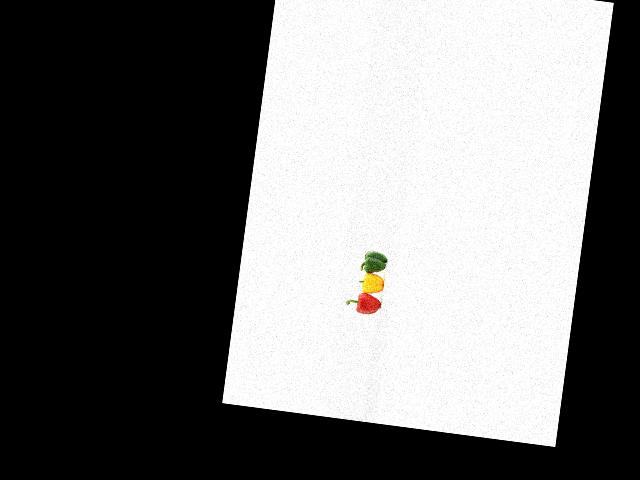bell_pepper: (341, 288, 385, 322)
